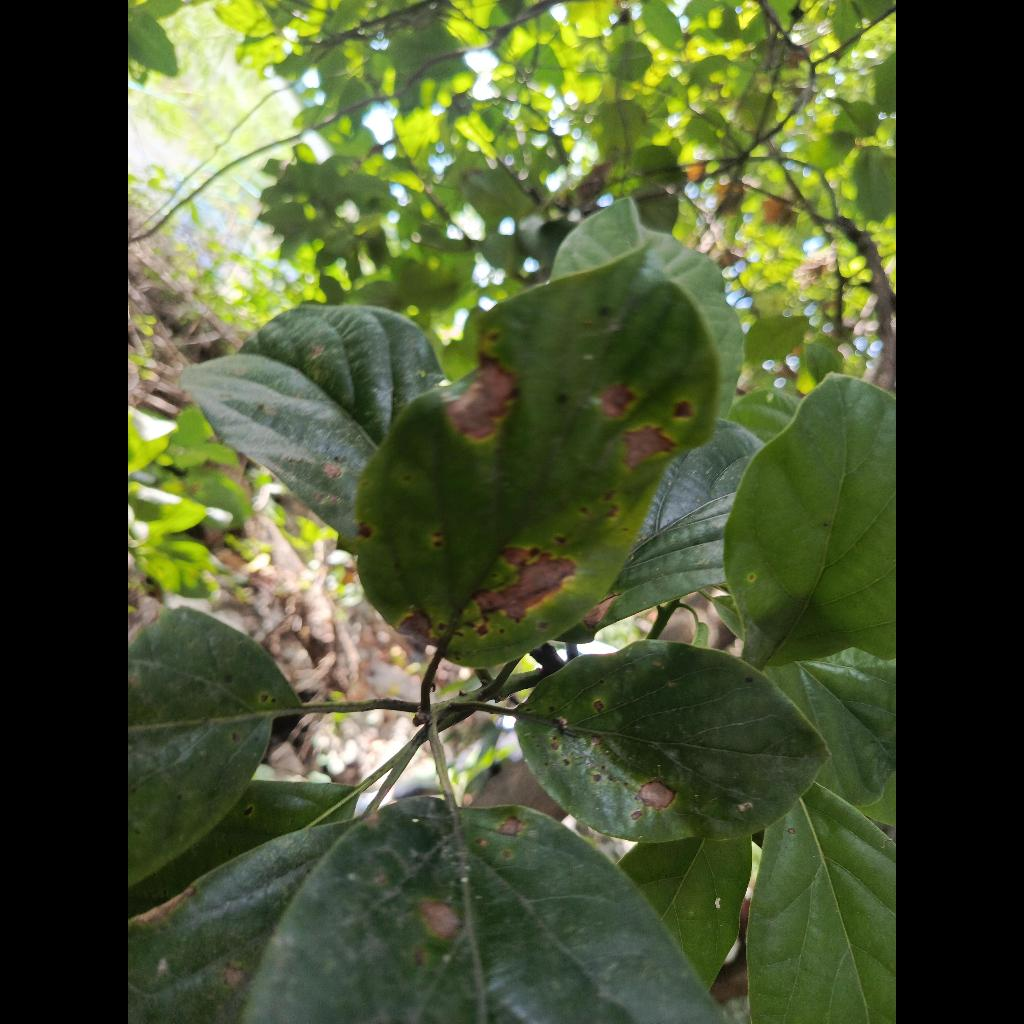antracnosis_hoja: (355, 249, 719, 666)
